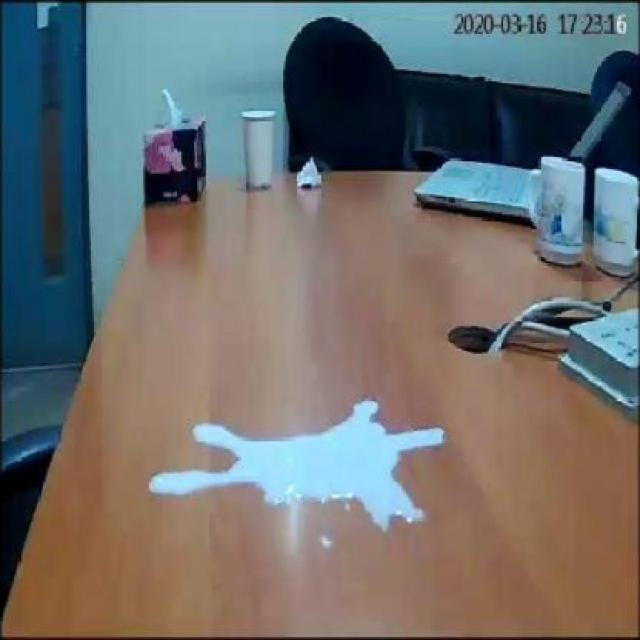spillage: (147, 400, 447, 536)
